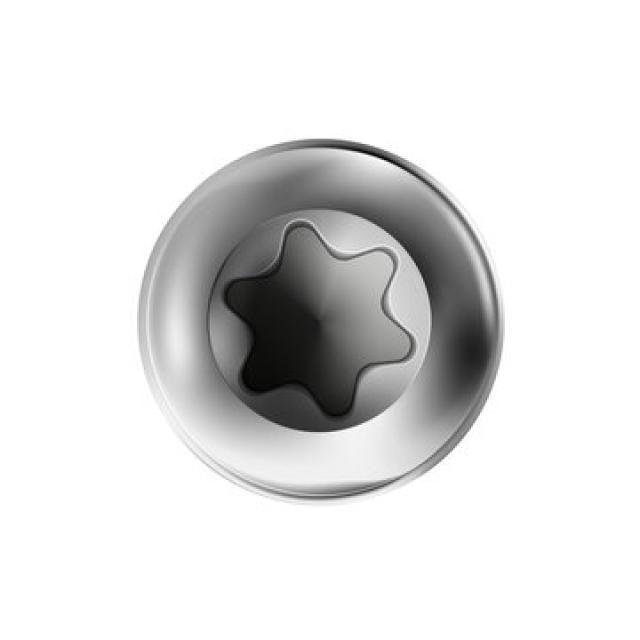torx: (137, 139, 507, 505)
